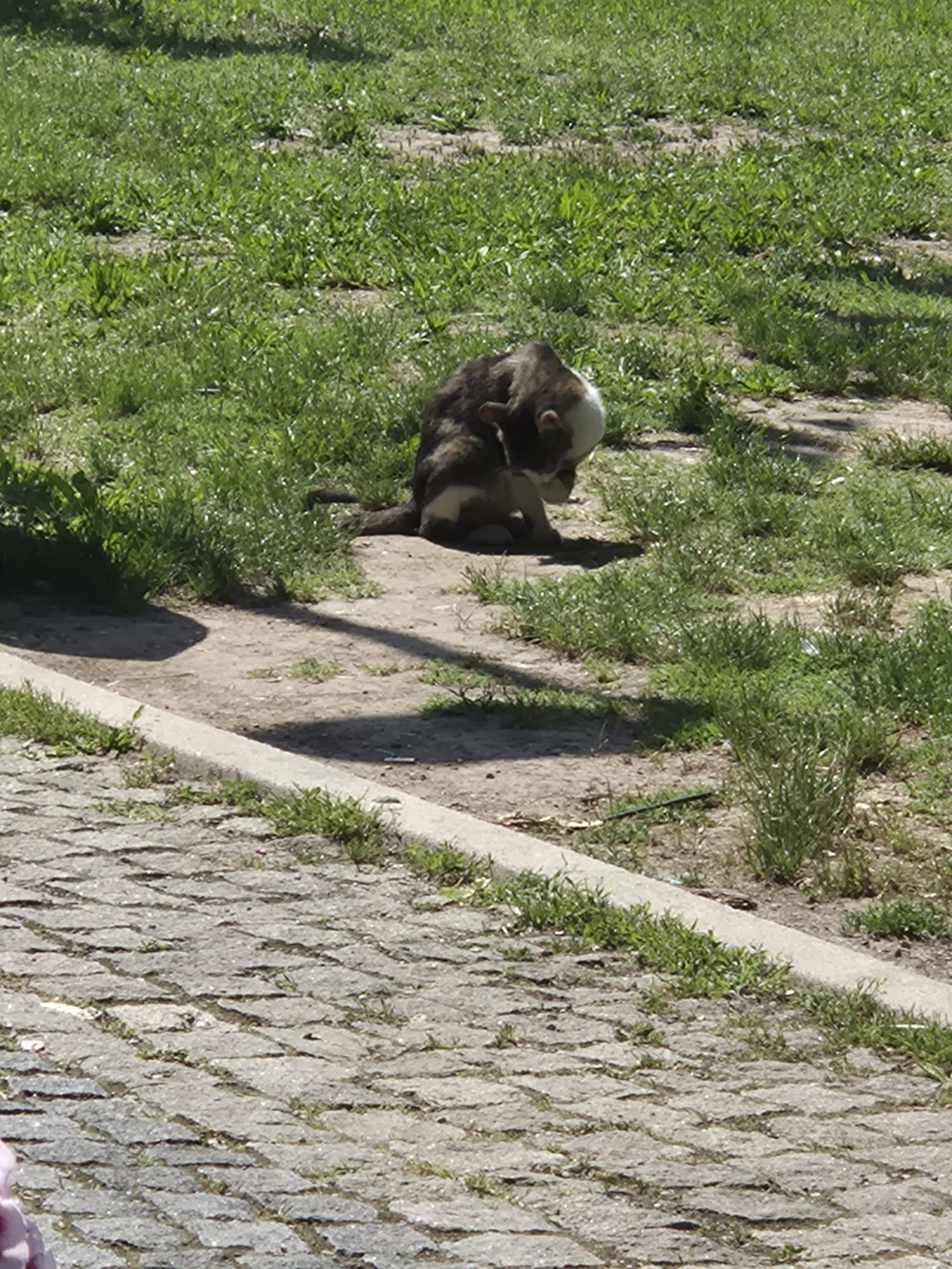macka: (303, 339, 609, 552)
